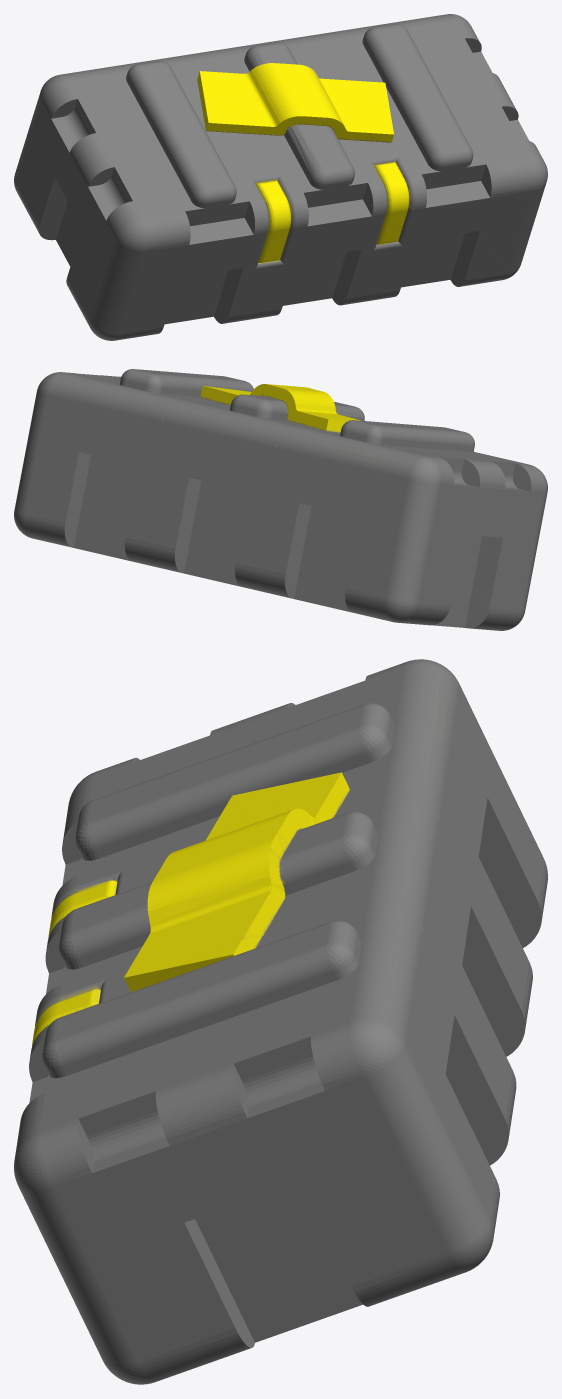
The model's file is PimpW.fbx.
3 renders of one model, top to bottom at view 1: azimuth 30°, elevation 25°; view 2: azimuth 150°, elevation 25°; view 3: azimuth 270°, elevation 25°, orthographic. The views are drawn at different scales.
Parts seen in each view (by area): view 1: node_130fb76c_7193_44ad_a452_e1d044dadf9a_mesh0; view 2: node_130fb76c_7193_44ad_a452_e1d044dadf9a_mesh0; view 3: node_130fb76c_7193_44ad_a452_e1d044dadf9a_mesh0.
Part boxes in pixels (<box>): node_130fb76c_7193_44ad_a452_e1d044dadf9a_mesh0: <box>14,14,547,340</box>; node_130fb76c_7193_44ad_a452_e1d044dadf9a_mesh0: <box>14,369,547,630</box>; node_130fb76c_7193_44ad_a452_e1d044dadf9a_mesh0: <box>14,659,547,1384</box>.
Size of the model in its own units: 52.97 by 27.99 by 32.2.
Materials: 1 (1 with a texture image).
